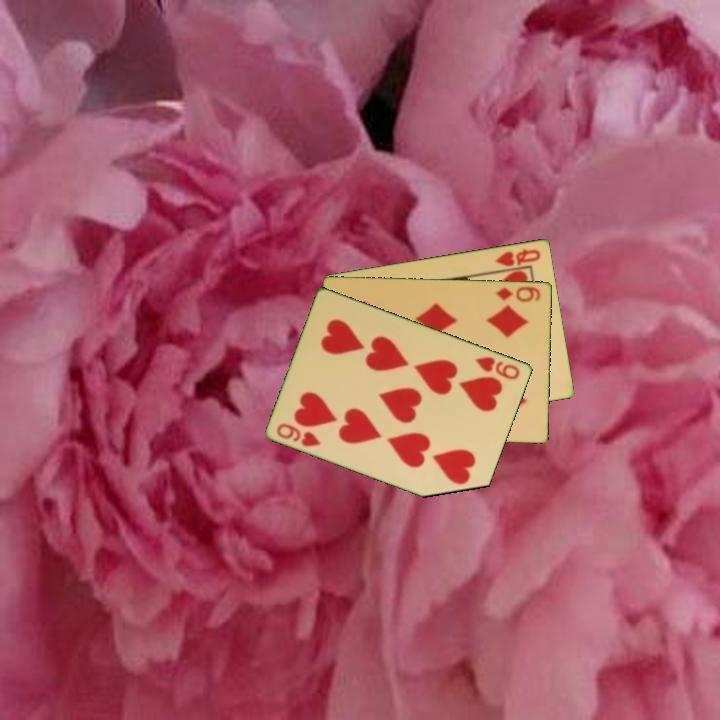6d: (492, 283, 544, 304)
9h: (273, 419, 324, 450), (472, 353, 523, 382)
Qh: (492, 245, 544, 269)
